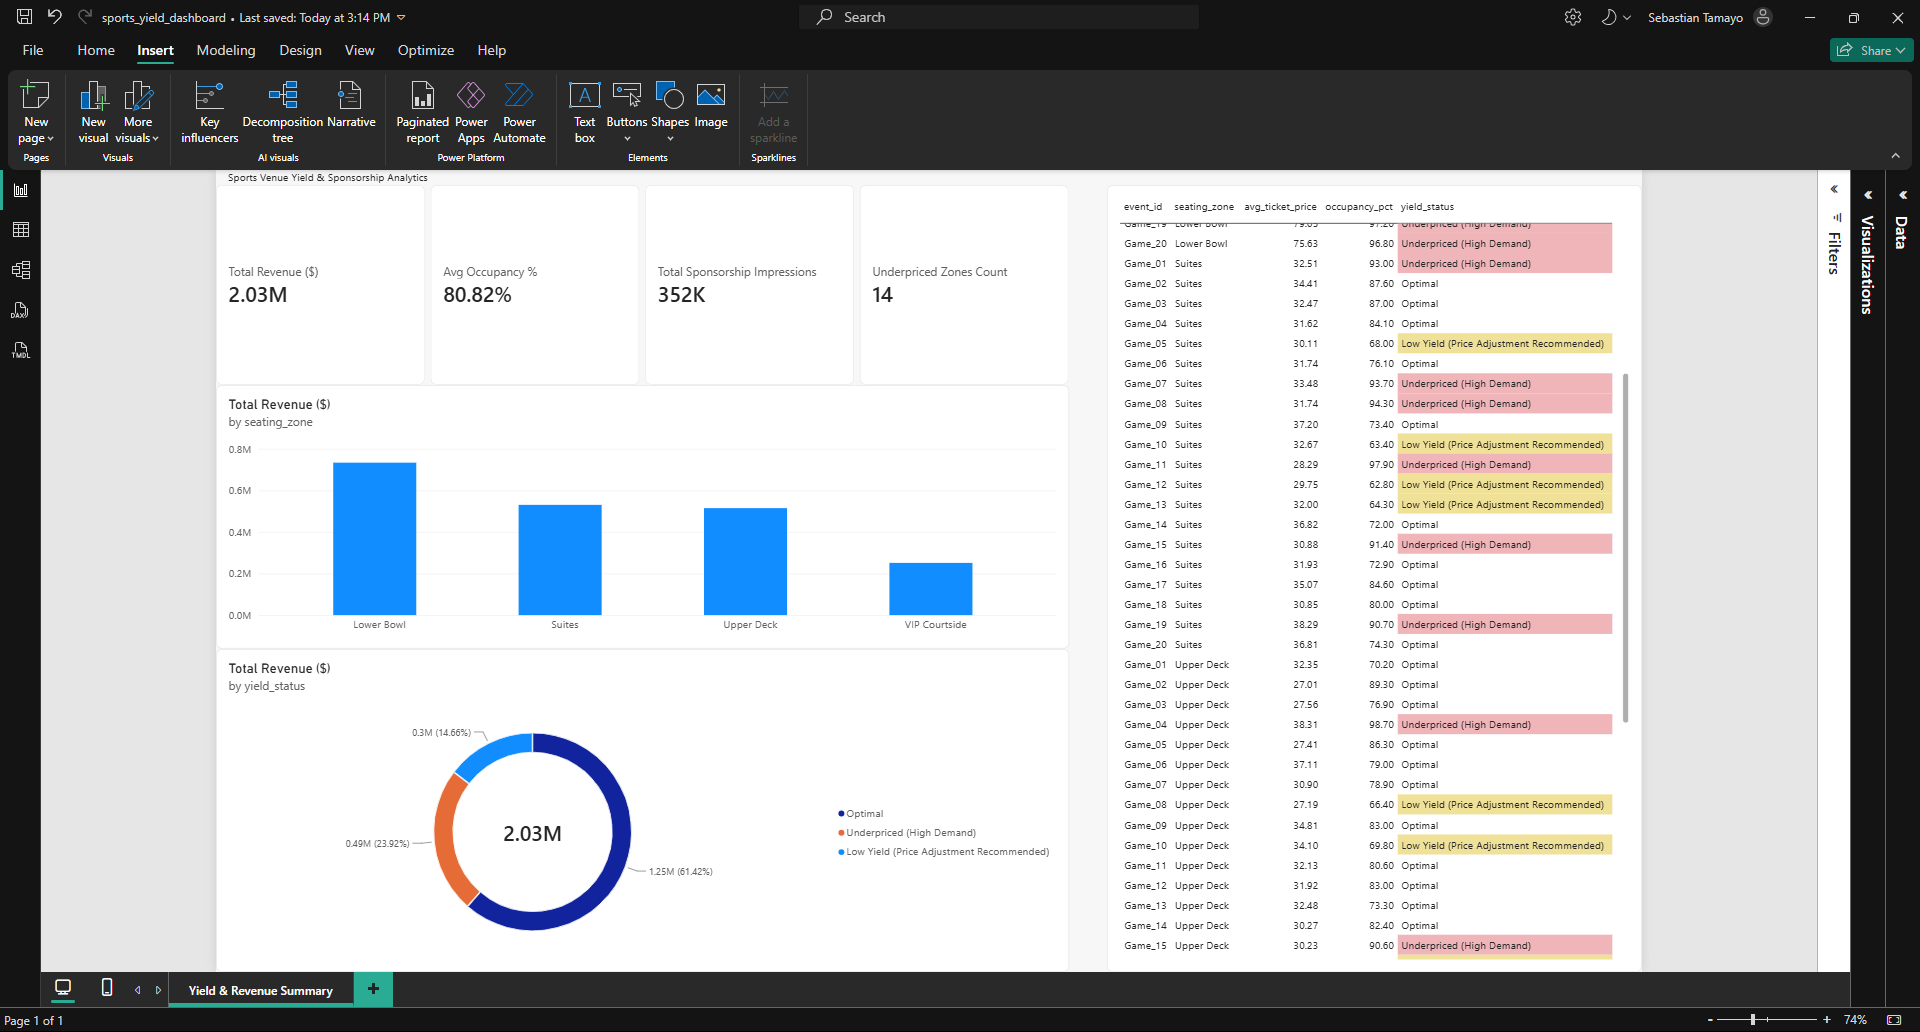

What the dashboard file says about the page in this screenshot:
{"tool":"powerbi","page":{"name":"Yield & Revenue Summary","canvas":[1920,1080],"ordinal":0},"visuals":[{"type":"cardVisual","fields":{"Data":["sports_insights_summary.Total Revenue ($)","sports_insights_summary.Avg Occupancy %","sports_insights_summary.Total Sponsorship Impressions","sports_insights_summary.Underpriced Zones Count"]},"box":[0,20.3,1148.5,269.7],"z":0},{"type":"clusteredColumnChart","fields":{"Category":["sports_insights_summary.seating_zone"],"Y":["sports_insights_summary.Total Revenue ($)"]},"box":[0,290,1148.5,355.3],"z":1000},{"type":"donutChart","fields":{"Category":["sports_insights_summary.yield_status"],"Y":["sports_insights_summary.Total Revenue ($)"]},"box":[0,645,1148.7,435],"z":2000},{"type":"tableEx","fields":{"Values":["sports_insights_summary.event_id","sports_insights_summary.seating_zone","sports_insights_summary.avg_ticket_price","sports_insights_summary.occupancy_pct","sports_insights_summary.yield_status"]},"box":[1199.9,20.2,720.4,1059.8],"z":3000},{"type":"textbox","box":[16,0,384.3,20.3],"z":3001}]}

Visuals, with their boxes in screenshot pixels (x1, y1, x2, y2):
cardVisual - sports_insights_summary.Total Revenue ($) x sports_insights_summary.Avg Occupancy %: {"left": 35, "top": 0, "right": 1115, "bottom": 223}
clusteredColumnChart - sports_insights_summary.seating_zone x sports_insights_summary.Total Revenue ($): {"left": 35, "top": 223, "right": 1115, "bottom": 557}
donutChart - sports_insights_summary.yield_status x sports_insights_summary.Total Revenue ($): {"left": 35, "top": 557, "right": 1115, "bottom": 966}
tableEx - sports_insights_summary.event_id x sports_insights_summary.seating_zone: {"left": 1164, "top": 0, "right": 1841, "bottom": 966}
